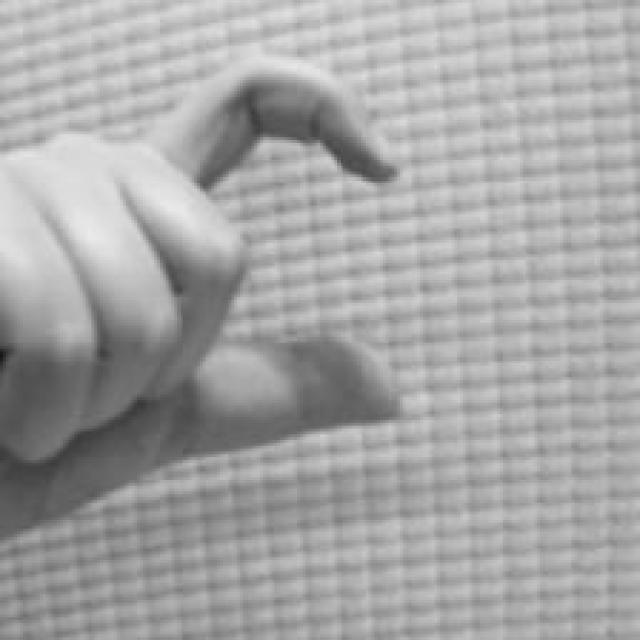C: (0, 50, 406, 542)
